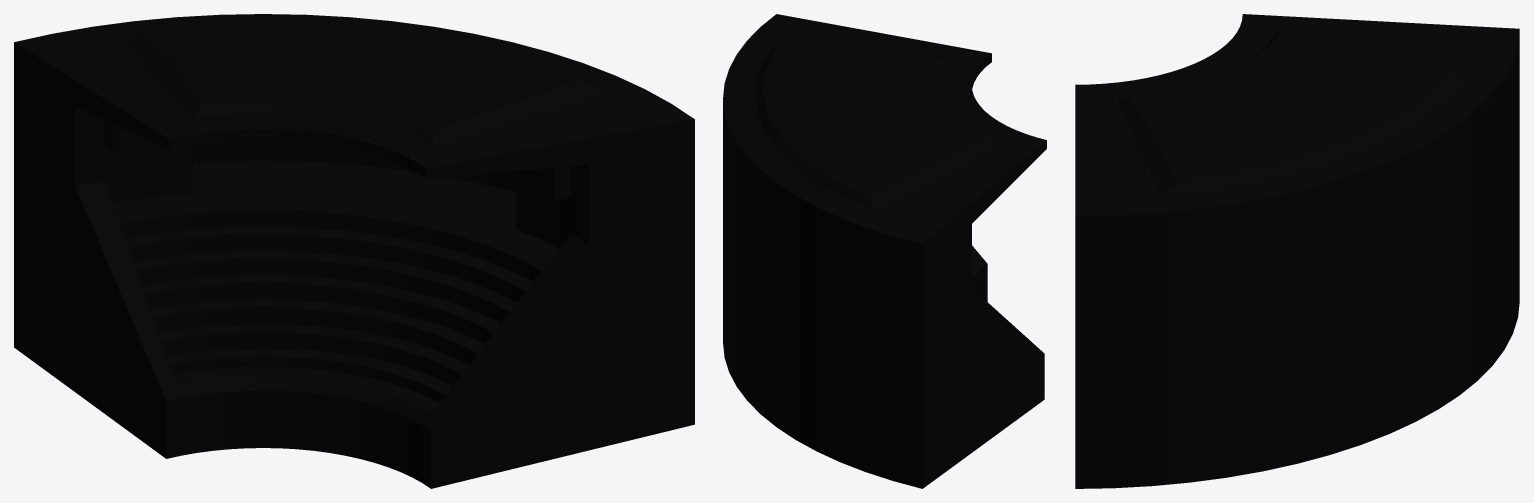
File: grandStandCoveredRound.glb
3 renders of one model, left to right at view 1: azimuth 30°, elevation 25°; view 2: azimuth 150°, elevation 25°; view 3: azimuth 270°, elevation 25°, orthographic. The views are drawn at different scales.
Parts seen in each view (by area): view 1: Mesh grandStandCoveredRound; view 2: Mesh grandStandCoveredRound; view 3: Mesh grandStandCoveredRound.
Boxes of the visible parts, x1,y1,x2,y2 form: Mesh grandStandCoveredRound: (14,14,694,488); Mesh grandStandCoveredRound: (723,14,1046,488); Mesh grandStandCoveredRound: (1075,14,1519,488).
Size of the model in its own units: 1.64 by 1.19 by 1.64.
1 material, 1 textured.
